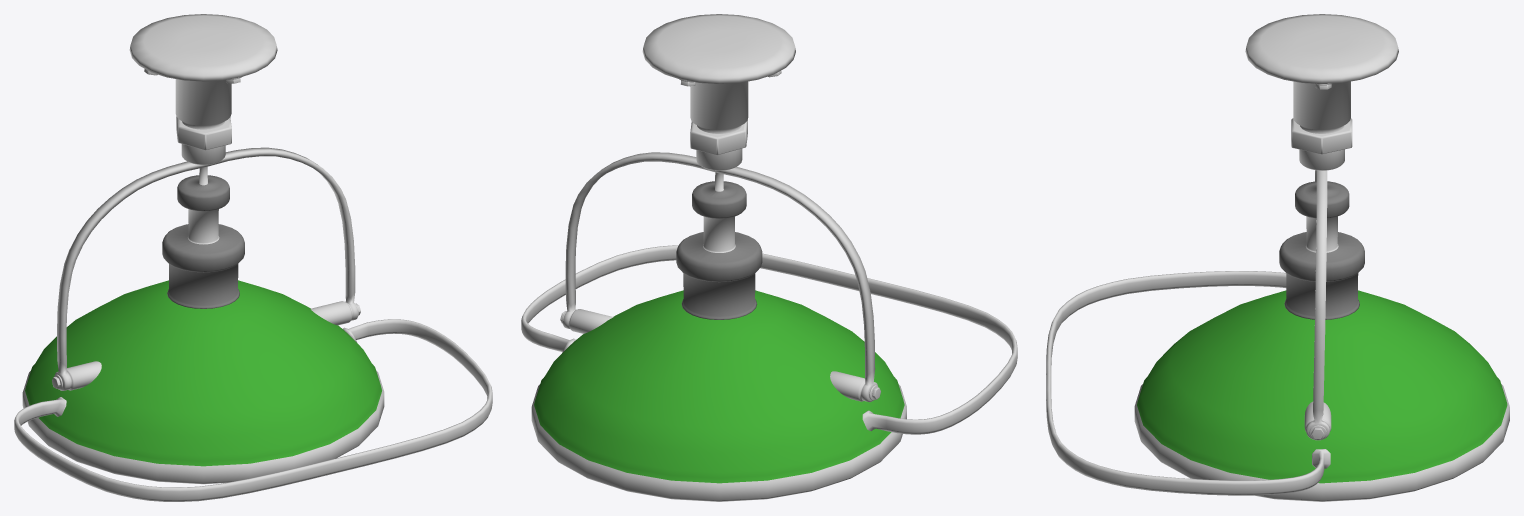
The model's file is OverHeadLamp.fbx.
3 views of the same model, side by side, from view 1: azimuth 30°, elevation 25°; view 2: azimuth 150°, elevation 25°; view 3: azimuth 270°, elevation 25° (orthographic). The views are drawn at different scales.
Parts seen in each view (by area): view 1: Empty_Mesh_1, Empty_Mesh, Empty_Mesh_2, Empty_Mesh_5, Empty_Mesh_3; view 2: Empty_Mesh_1, Empty_Mesh, Empty_Mesh_2, Empty_Mesh_5, Empty_Mesh_3; view 3: Empty_Mesh_1, Empty_Mesh, Empty_Mesh_2, Empty_Mesh_5, Empty_Mesh_3.
Part boxes in pixels (x1=…): Empty_Mesh_1: x1=22, y1=280, x2=384, y2=484; Empty_Mesh: x1=129, y1=14, x2=277, y2=308; Empty_Mesh_2: x1=14, y1=319, x2=492, y2=501; Empty_Mesh_5: x1=52, y1=147, x2=360, y2=390; Empty_Mesh_3: x1=176, y1=116, x2=231, y2=150; Empty_Mesh_1: x1=531, y1=290, x2=906, y2=501; Empty_Mesh: x1=642, y1=14, x2=795, y2=319; Empty_Mesh_2: x1=521, y1=245, x2=1017, y2=434; Empty_Mesh_5: x1=560, y1=152, x2=880, y2=402; Empty_Mesh_3: x1=690, y1=119, x2=747, y2=154; Empty_Mesh_1: x1=1134, y1=290, x2=1509, y2=501; Empty_Mesh: x1=1245, y1=14, x2=1398, y2=319; Empty_Mesh_2: x1=1046, y1=271, x2=1330, y2=495; Empty_Mesh_5: x1=1304, y1=170, x2=1331, y2=440; Empty_Mesh_3: x1=1291, y1=118, x2=1352, y2=154.
Size of the model in its own units: 8.48 by 7.17 by 7.84.
